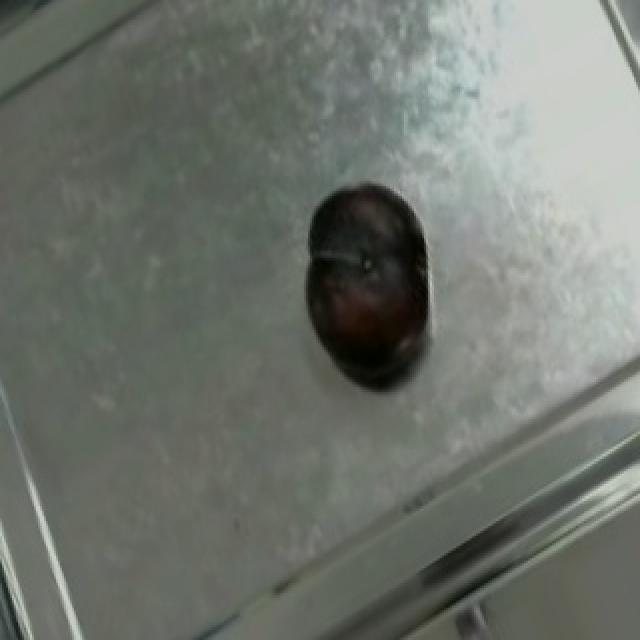Fruit: (286, 161, 442, 375)
